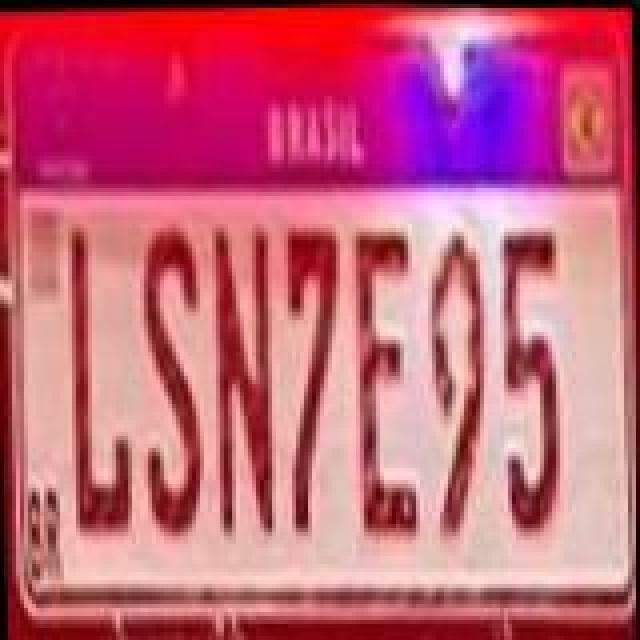5: (494, 226, 562, 530)
7: (278, 224, 346, 536)
9: (420, 220, 492, 536)
E: (348, 222, 420, 534)
L: (66, 226, 134, 530)
N: (208, 218, 280, 534)
S: (130, 220, 206, 540)
